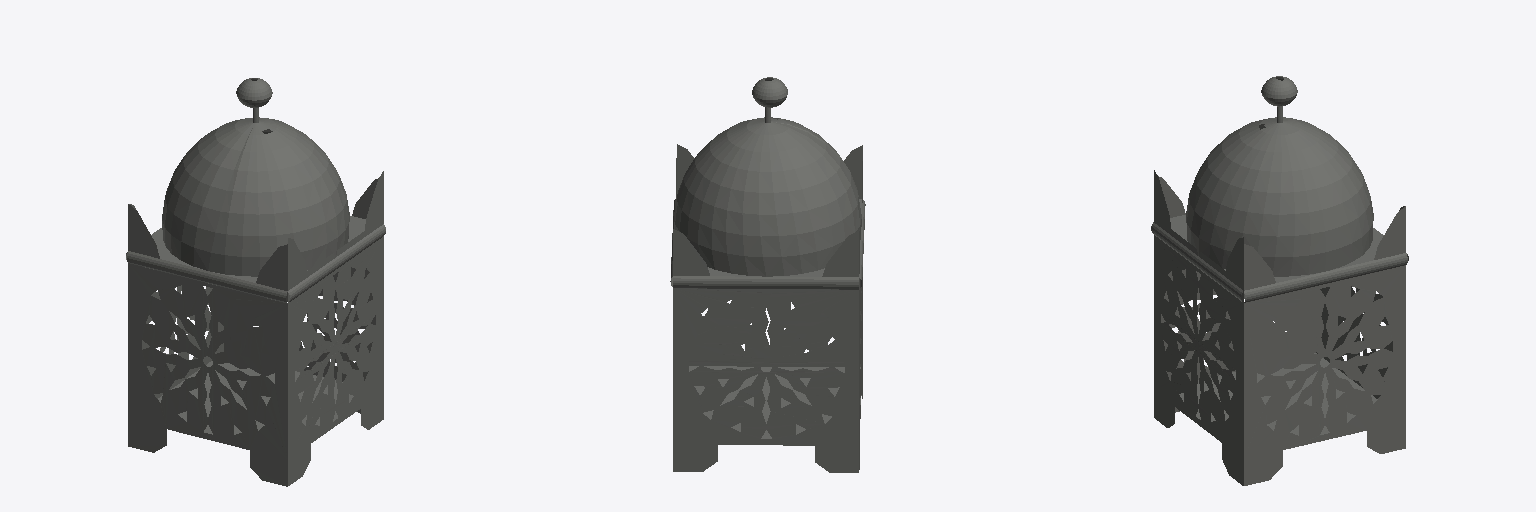
The model's file is chemaa.obj.
3 views of the same model, side by side, from view 1: azimuth 30°, elevation 25°; view 2: azimuth 150°, elevation 25°; view 3: azimuth 270°, elevation 25° (orthographic).
Parts seen in each view (by area): view 1: Mesh2 Component_3_1 Lamp_from_Morocco1 Model, Mesh1 Component_3_1 Lamp_from_Morocco1 Model; view 2: Mesh2 Component_3_1 Lamp_from_Morocco1 Model, Mesh1 Component_3_1 Lamp_from_Morocco1 Model; view 3: Mesh2 Component_3_1 Lamp_from_Morocco1 Model, Mesh1 Component_3_1 Lamp_from_Morocco1 Model.
Boxes of the visible parts, <box> form: Mesh2 Component_3_1 Lamp_from_Morocco1 Model: <box>126,117,385,486</box>; Mesh1 Component_3_1 Lamp_from_Morocco1 Model: <box>236,78,272,122</box>; Mesh2 Component_3_1 Lamp_from_Morocco1 Model: <box>670,117,865,472</box>; Mesh1 Component_3_1 Lamp_from_Morocco1 Model: <box>752,77,787,122</box>; Mesh2 Component_3_1 Lamp_from_Morocco1 Model: <box>1151,117,1408,485</box>; Mesh1 Component_3_1 Lamp_from_Morocco1 Model: <box>1261,76,1297,122</box>.
Size of the model in its own units: 11.46 by 17.36 by 11.46.